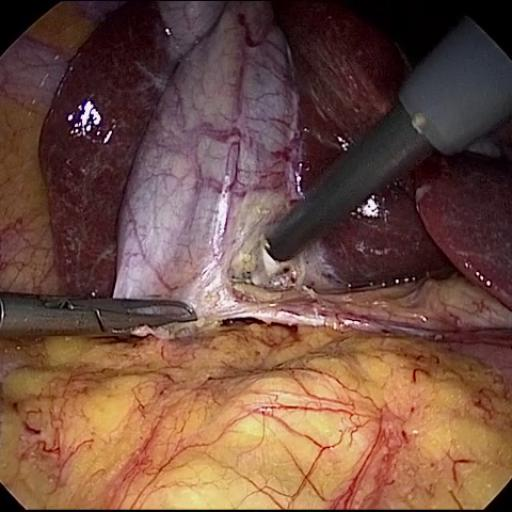Grasper: (4, 262, 211, 379)
Hook: (196, 201, 292, 315)
